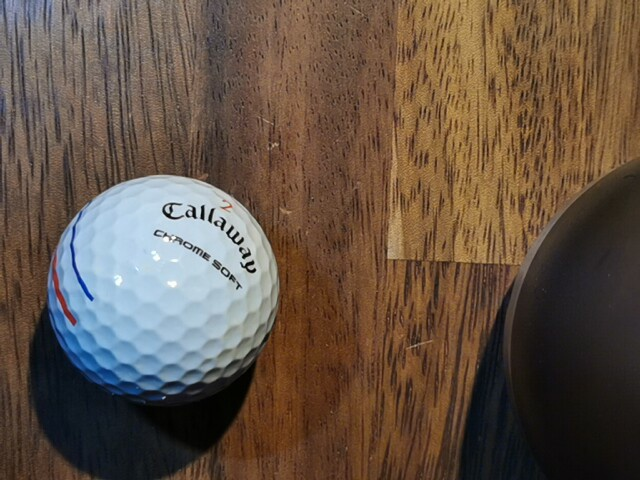Ball: (47, 174, 280, 408)
Callaway: (162, 202, 257, 274)
